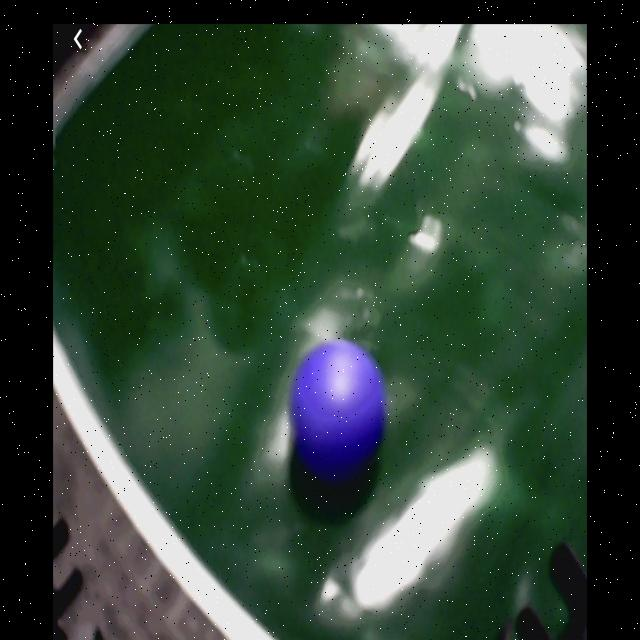ball: (291, 337, 388, 470)
